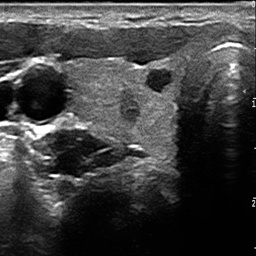mass: (116, 82, 142, 124)
